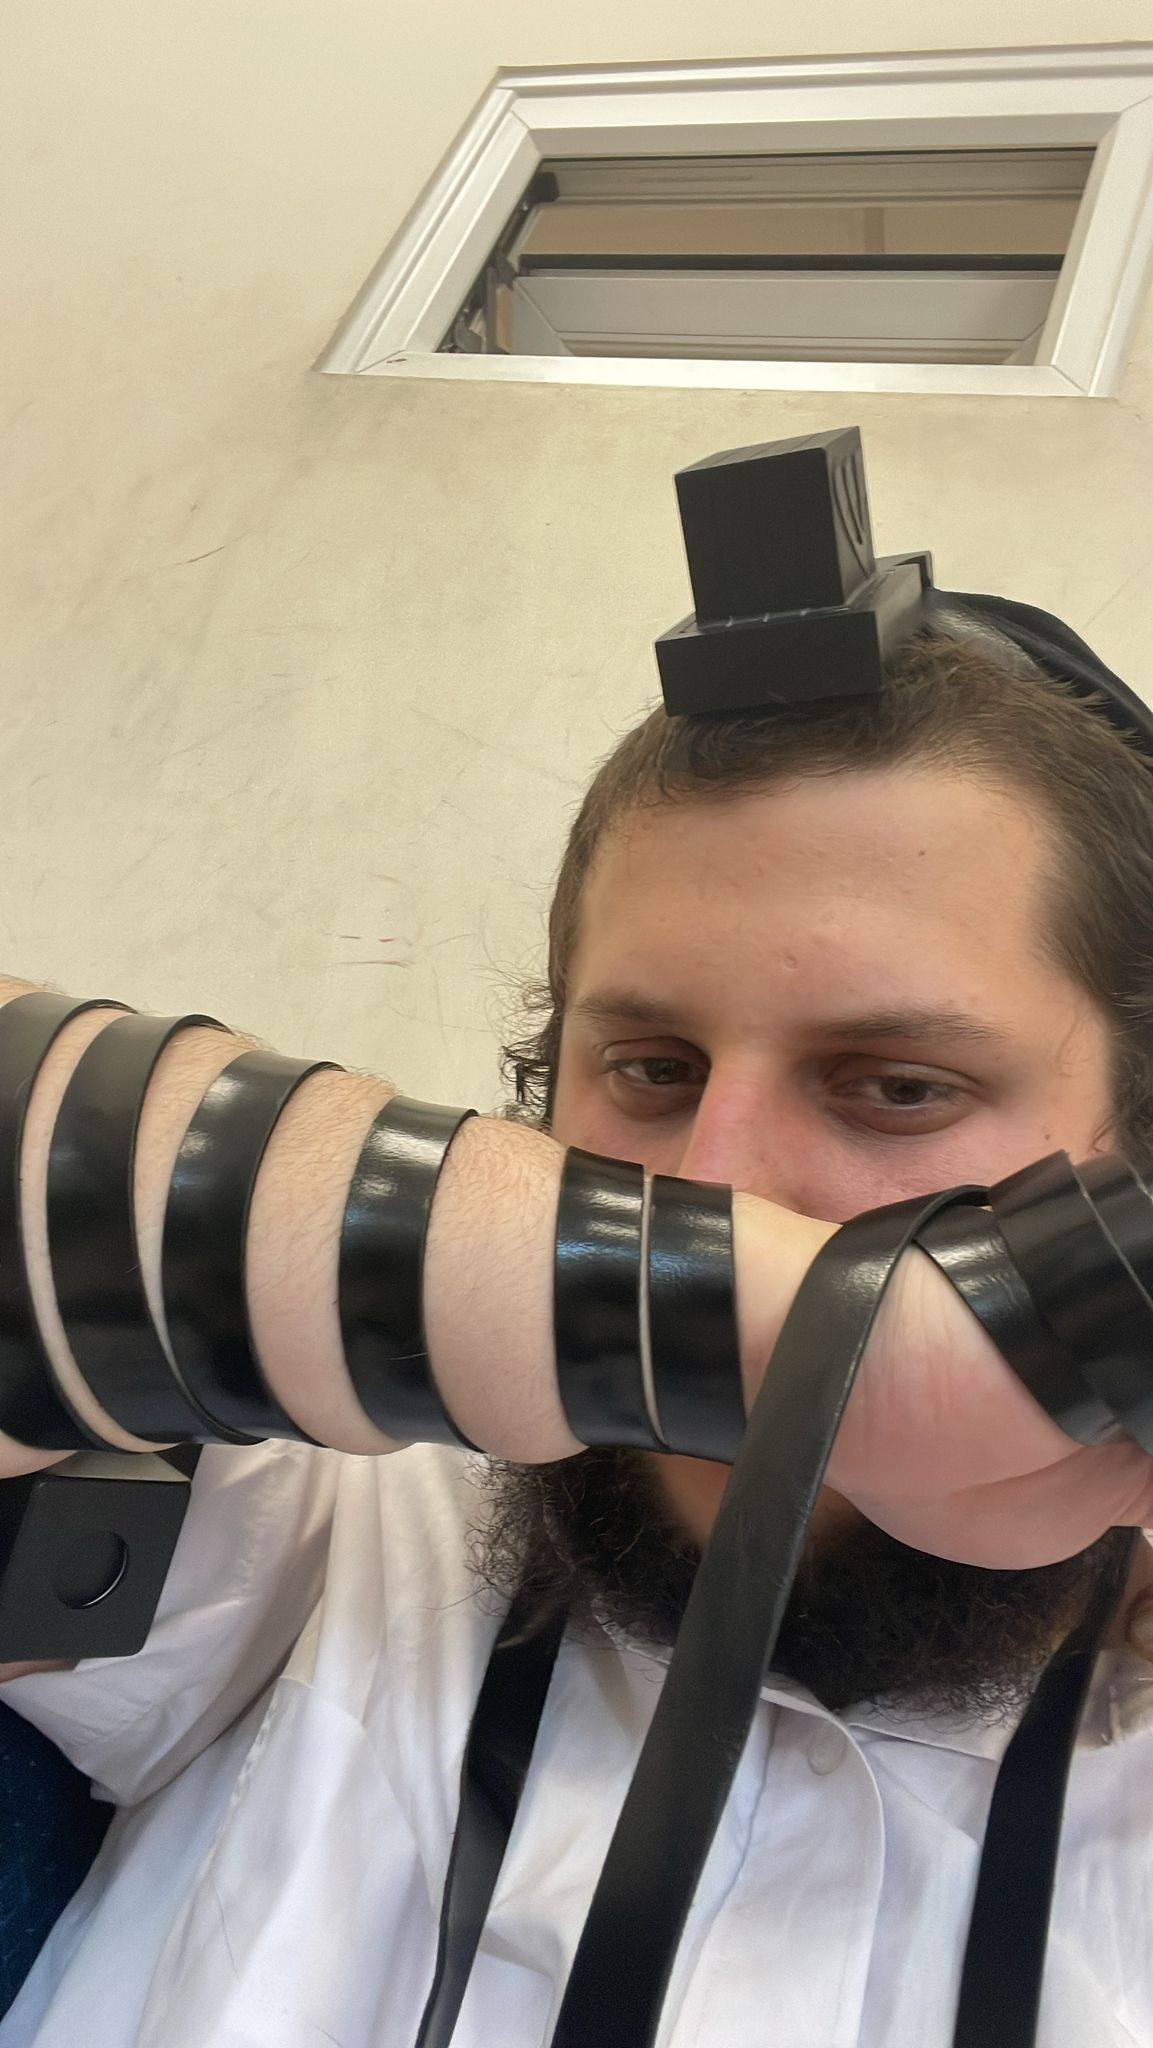tefillin: (634, 428, 935, 715)
